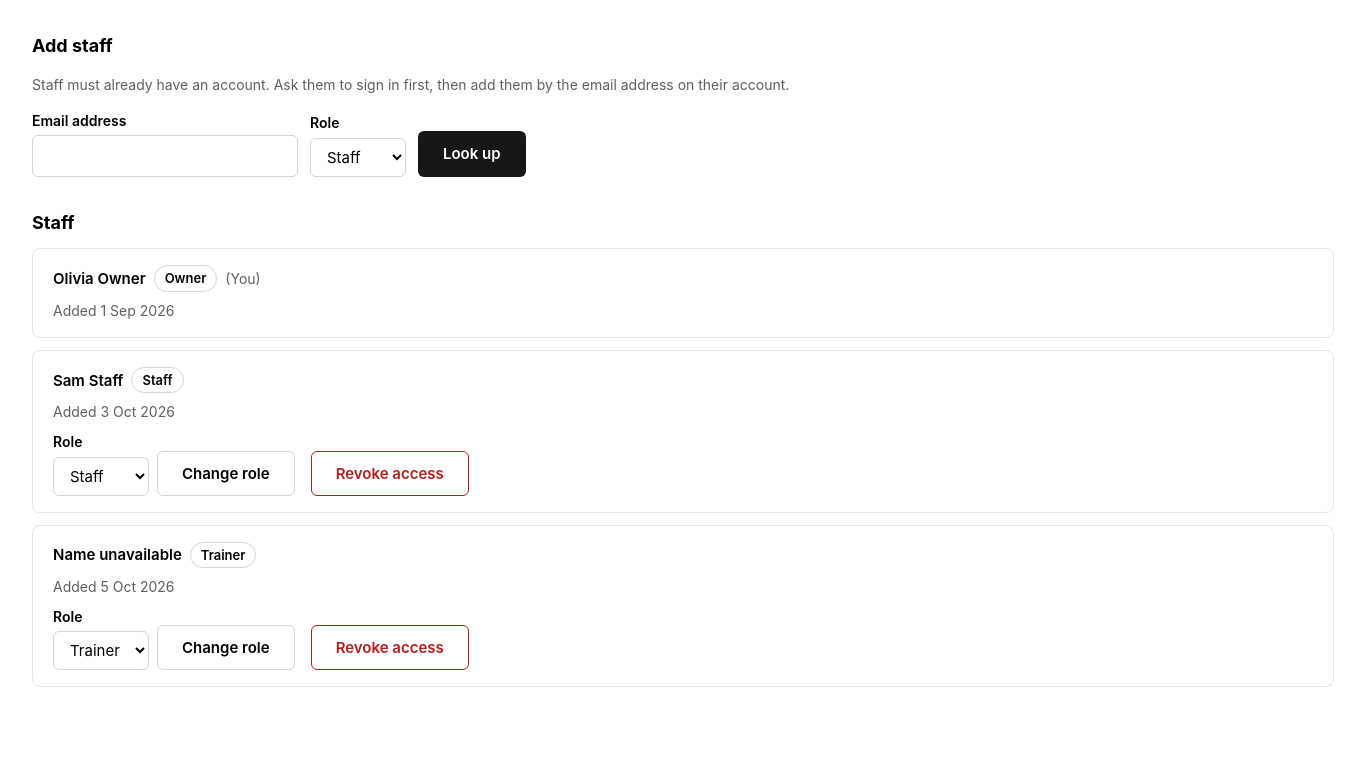
it: StaffManager as OWNER › shows the sign-in-first message for an unknown account
The image size is (1366, 768).
Type "ghost@example.com" into the field with id "staff-email" at (165, 156), box [32,135,298,177]
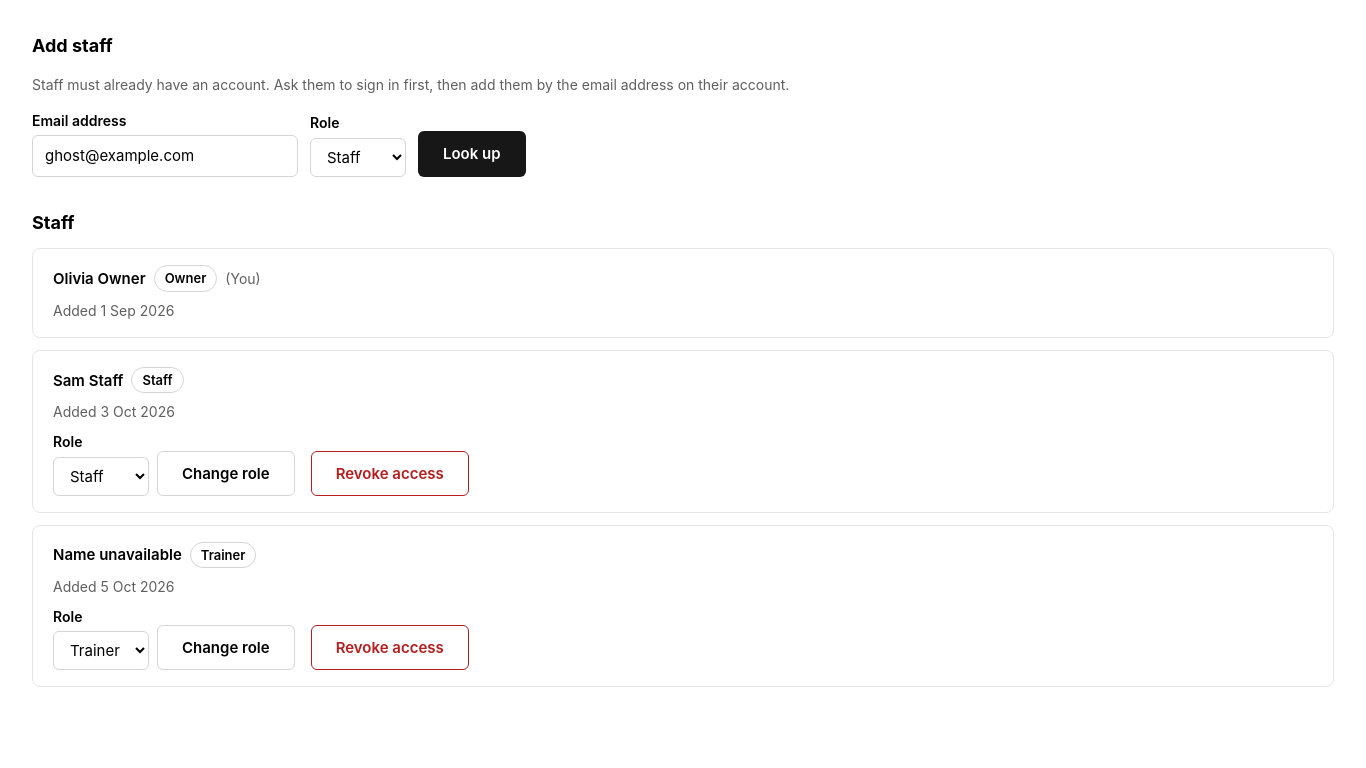
Submit the form with id "staff-email", box [32,112,526,176]
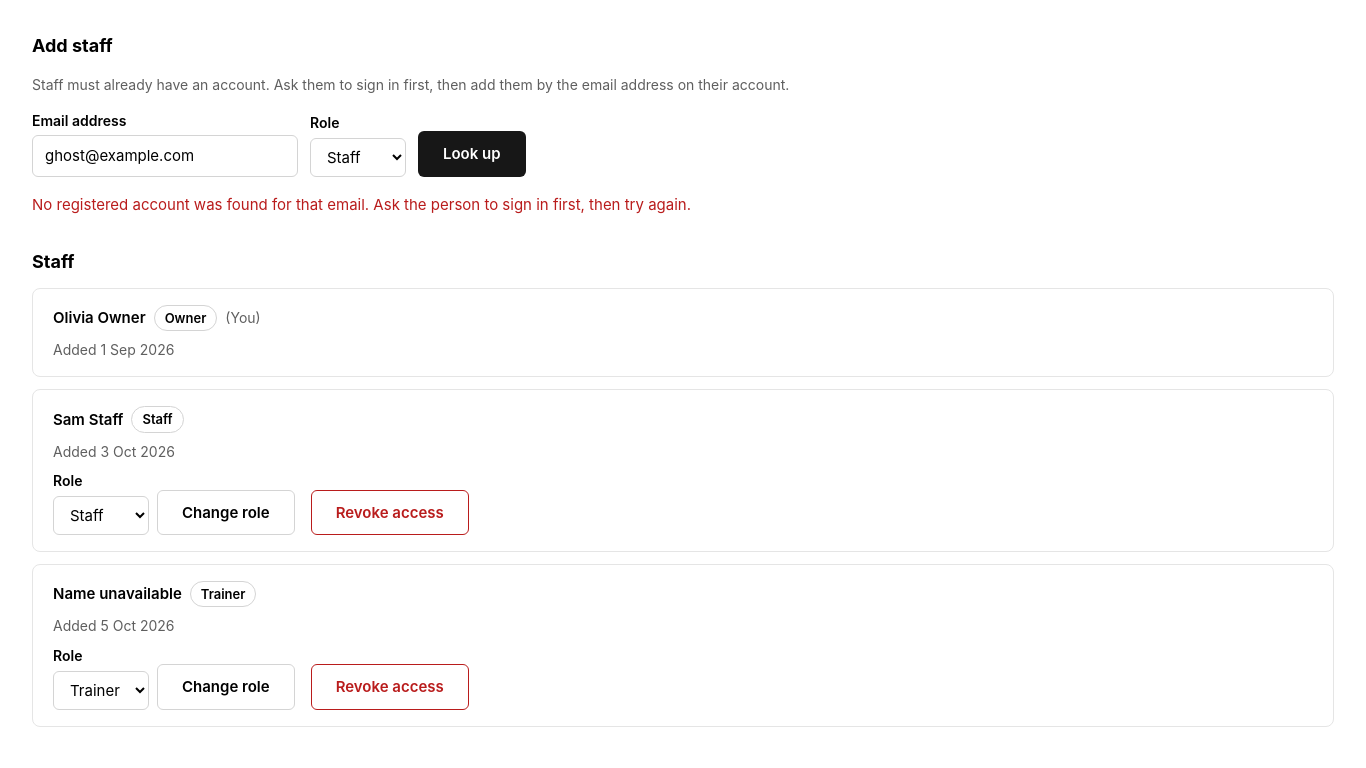
Expected: the message shows "sign in first", [32,194,691,214]
